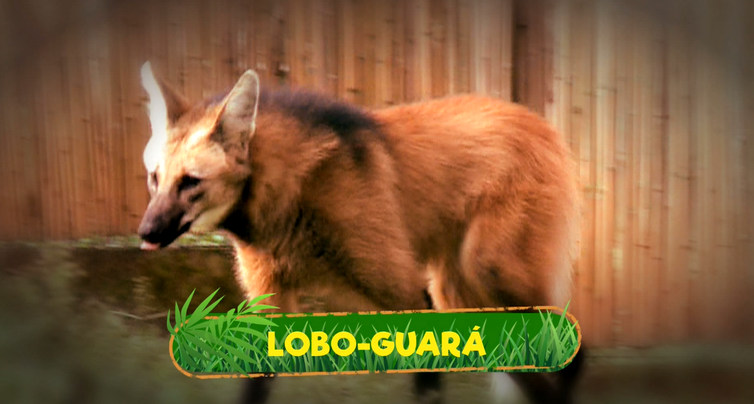LoboGuara: (126, 53, 611, 296)
